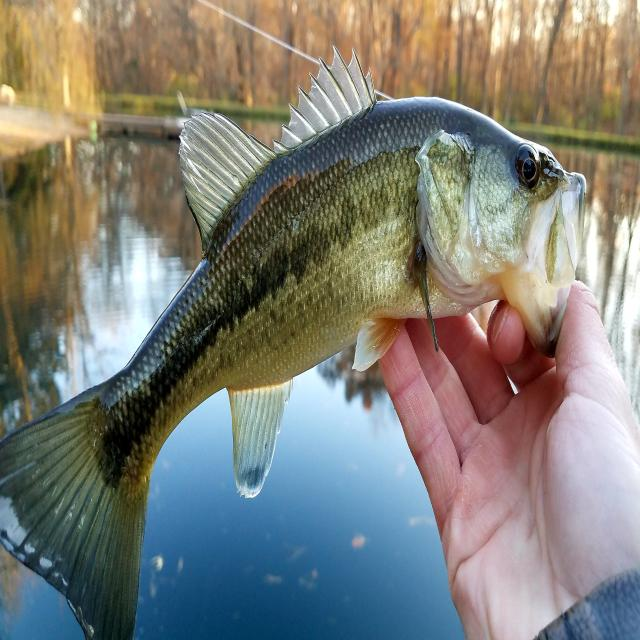Bass - Largemouth: (0, 49, 585, 637)
